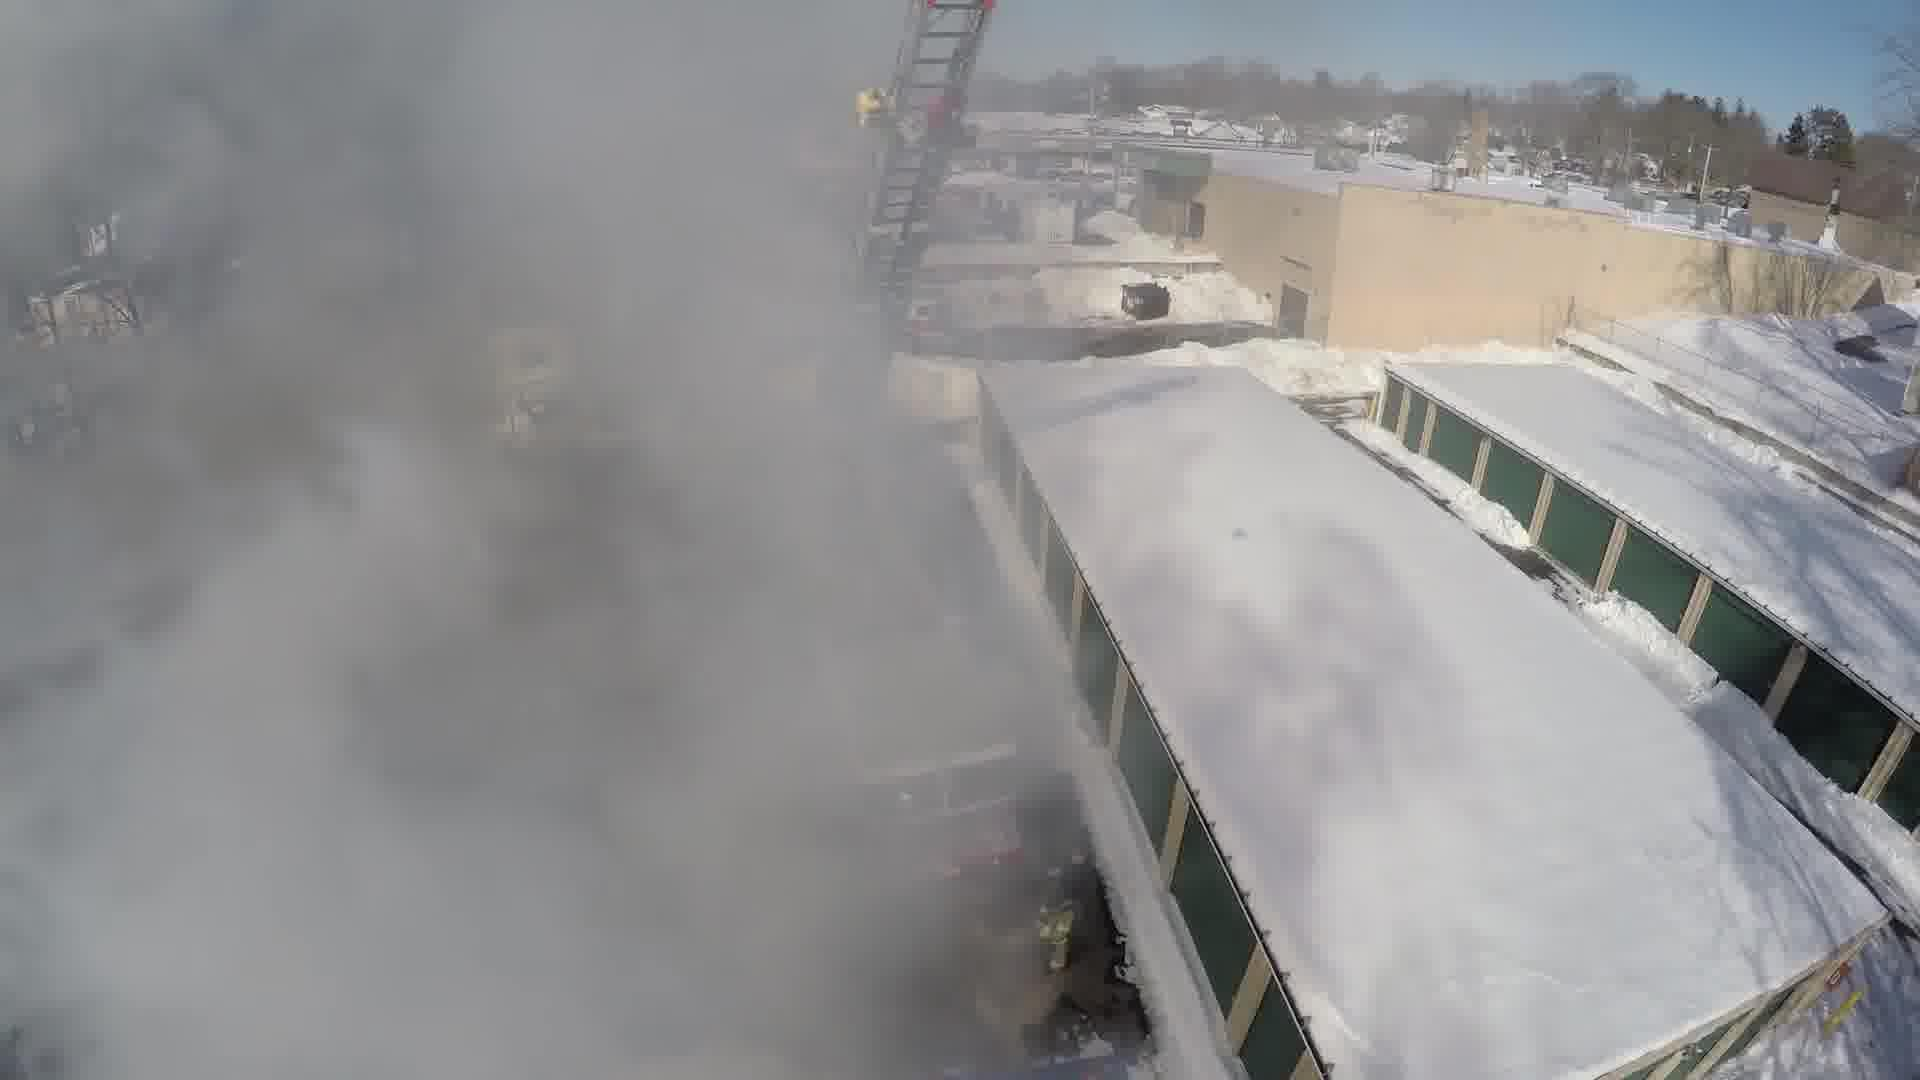smoke: (0, 0, 1065, 1080)
